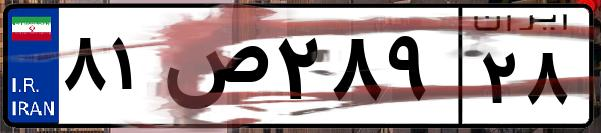1: (110, 28, 158, 98)
2: (270, 28, 330, 110), (475, 38, 525, 113)
8: (330, 28, 385, 110), (57, 26, 110, 100), (525, 38, 570, 115)
9: (385, 28, 445, 110)
ص: (158, 20, 270, 120)
